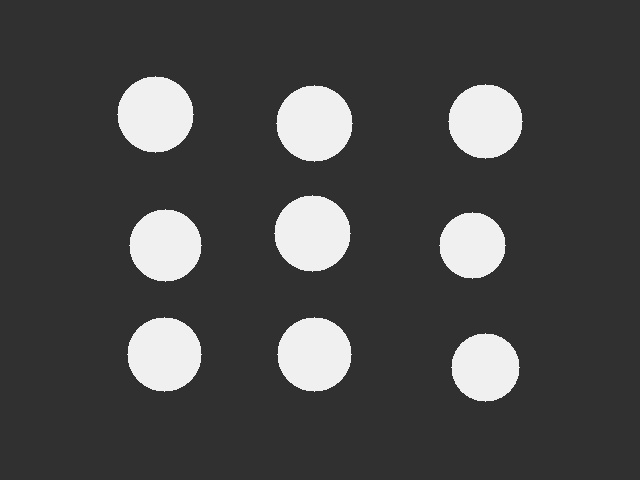hole: (117, 76, 193, 152), (276, 85, 352, 161), (274, 195, 350, 271), (448, 84, 522, 158), (127, 317, 201, 391), (277, 317, 351, 391), (129, 209, 201, 281), (451, 333, 519, 401), (439, 212, 505, 278)
